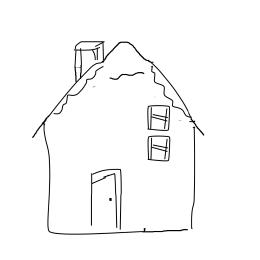chimney: (69, 32, 112, 85)
closed_window: (140, 98, 179, 134), (144, 132, 177, 164)
door: (81, 165, 129, 231)
single_line_roof: (25, 38, 218, 139)
wall: (42, 120, 199, 239)
